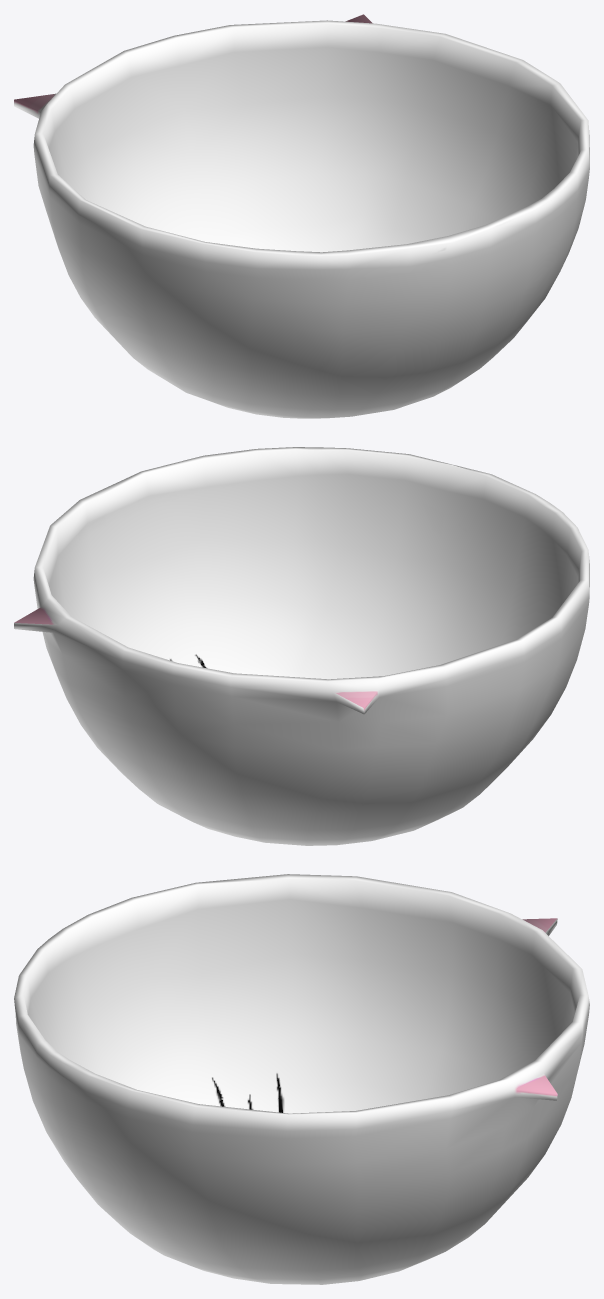
The model's file is Cat_Bowl.glb.
The picture shows the model from 3 angles, top to bottom: view 1: azimuth 30°, elevation 25°; view 2: azimuth 150°, elevation 25°; view 3: azimuth 270°, elevation 25°; orthographic projection. The views are drawn at different scales.
Parts seen in each view (by area): view 1: bowluv; view 2: bowluv; view 3: bowluv.
Part boxes in pixels (x1,y1,x2,y2): bowluv: (14,14,589,418); bowluv: (14,447,589,845); bowluv: (14,874,589,1284).
Size of the model in its own units: 1.98 by 0.8731 by 1.98.
1 material, 1 textured.
